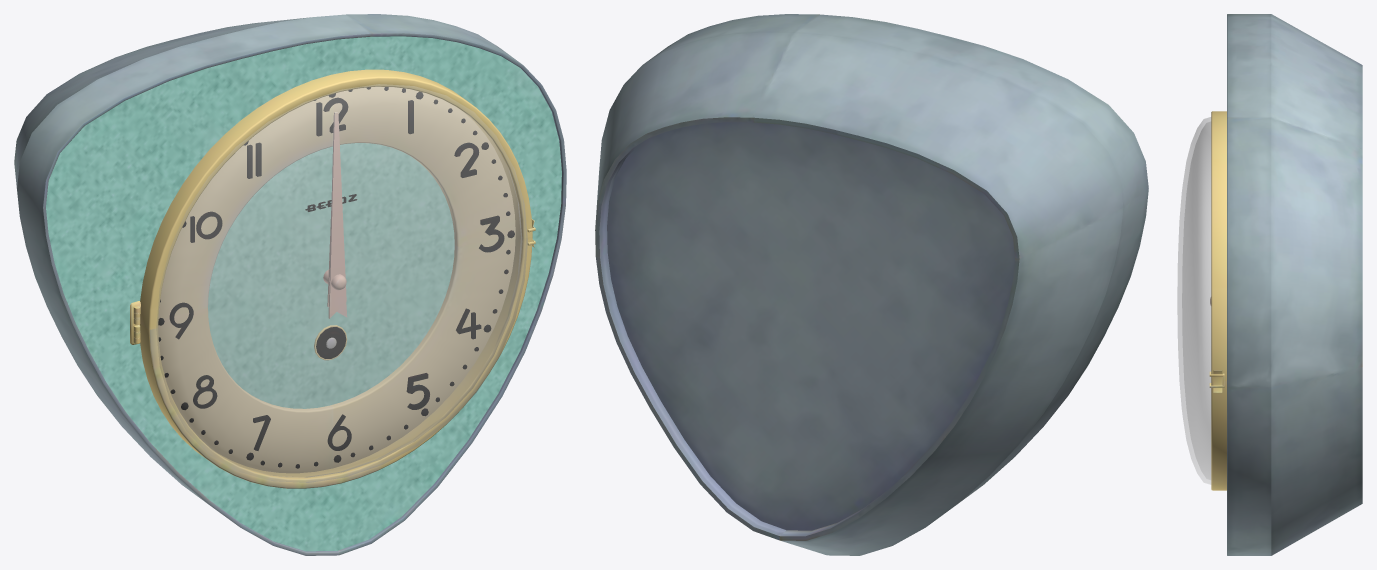
Rendered from 1950s_wall_clock.glb.
3 renders of one model, left to right at view 1: azimuth 30°, elevation 25°; view 2: azimuth 150°, elevation 25°; view 3: azimuth 270°, elevation 25°, orthographic. The views are drawn at different scales.
Visible parts, largest first — view 1: #CLK0001_1950_Beboz_Wall, #CLK0001_Glass, #CLK0001_Minute Hand.001; view 2: #CLK0001_1950_Beboz_Wall; view 3: #CLK0001_1950_Beboz_Wall, #CLK0001_Glass.
Boxes of the visible parts, x1,y1,x2,y2 form: #CLK0001_1950_Beboz_Wall: (14,14,566,555); #CLK0001_Glass: (156,84,527,482); #CLK0001_Minute Hand.001: (323,112,346,318); #CLK0001_1950_Beboz_Wall: (595,14,1148,555); #CLK0001_1950_Beboz_Wall: (1209,14,1362,555); #CLK0001_Glass: (1177,117,1211,484).
Bounding box in the file's own units: 0.3275 × 0.3127 × 0.117.
Materials: 2 (1 with a texture image).
